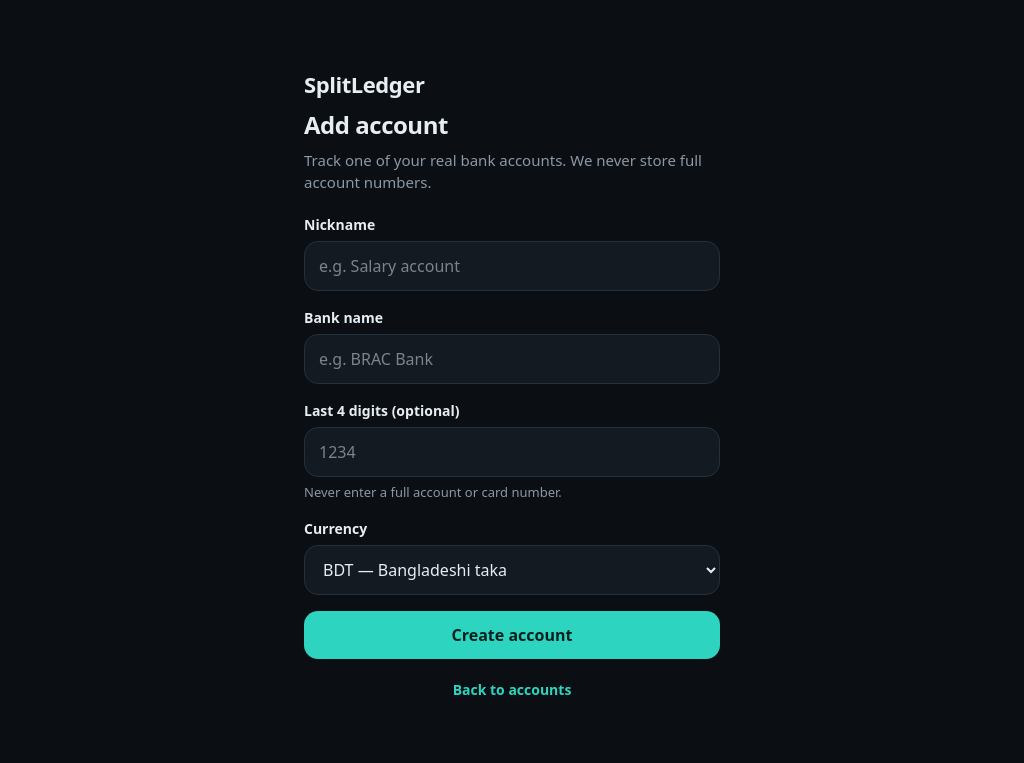
new account › creates an account and opens its detail page
Type "Salary" into the field labelled "Nickname" at (512, 266), box [304, 241, 720, 291]
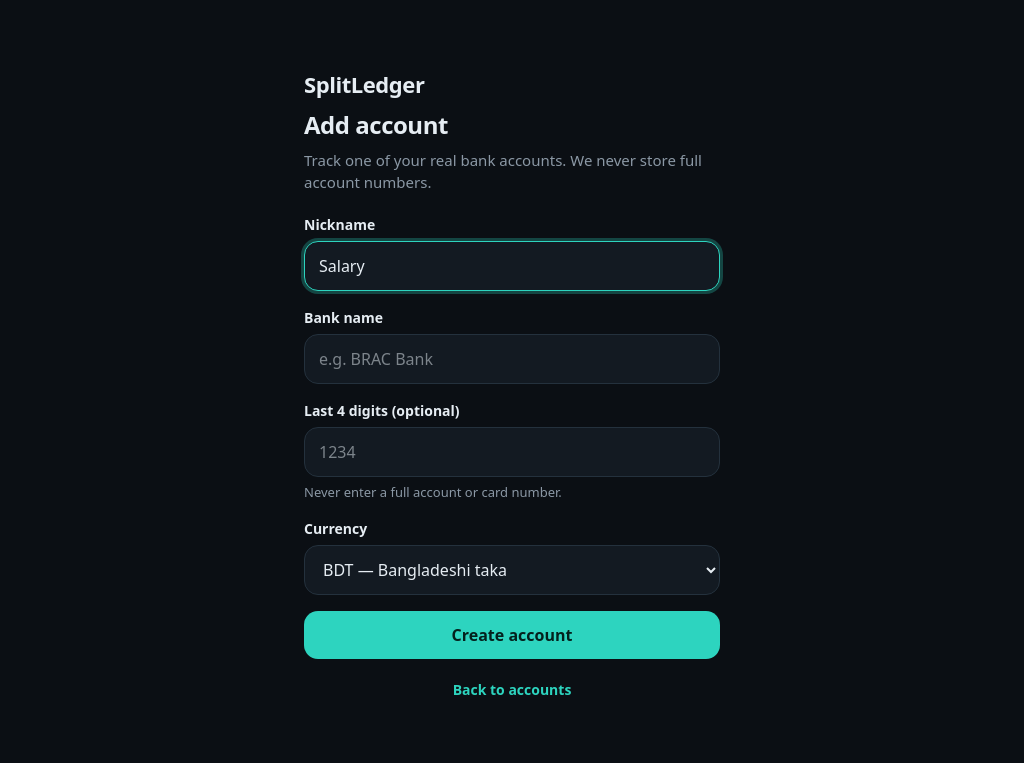
Type "BRAC Bank" into the field labelled "Bank name" at (512, 359), box [304, 334, 720, 384]
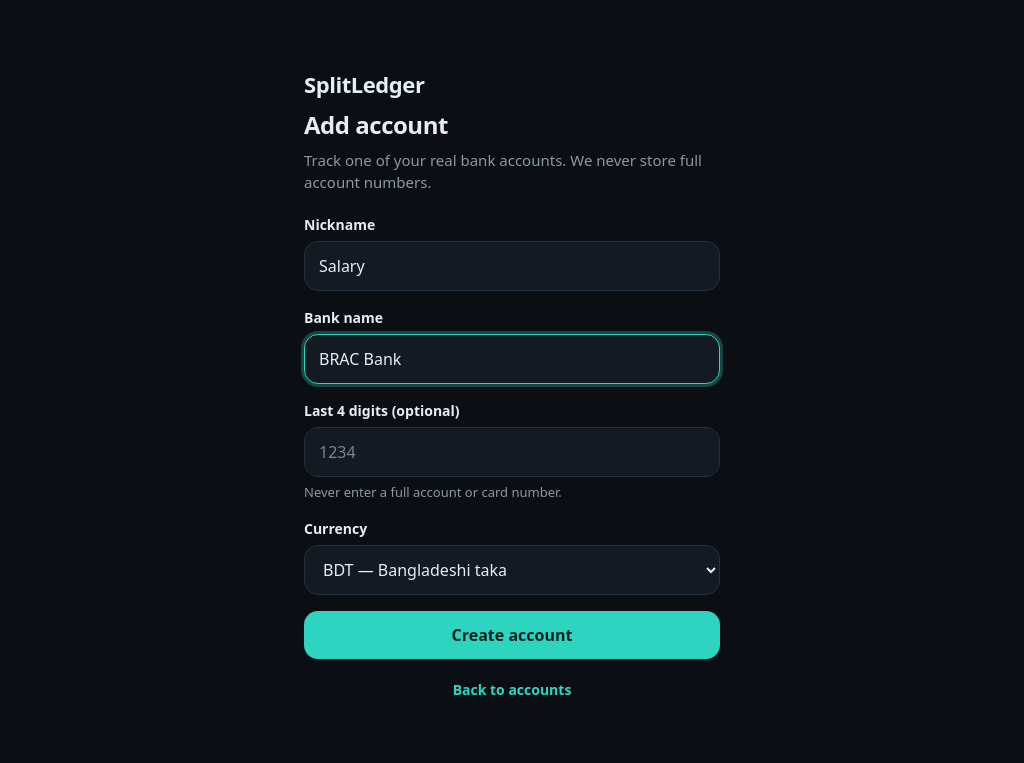
Click the button "Create account" at (512, 635), box [304, 611, 720, 659]
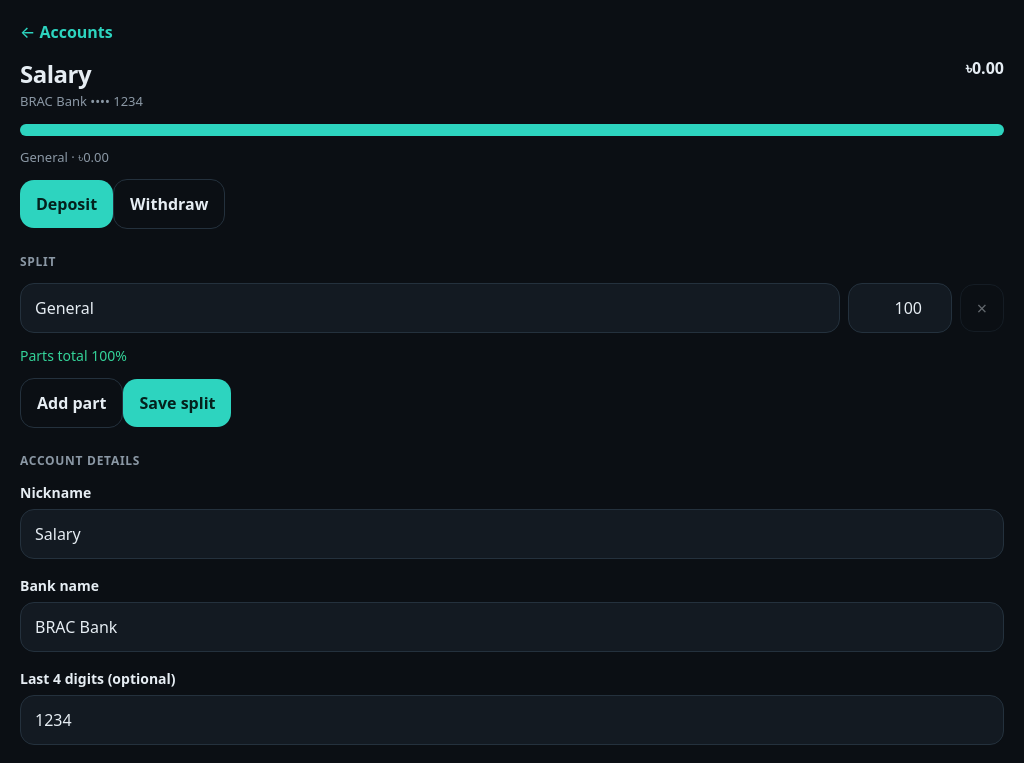
Check: the heading "Salary" is shown, box [20, 57, 91, 90]
